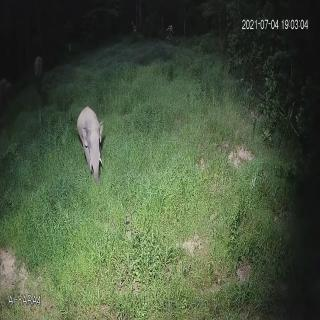Elephant: (76, 105, 108, 182)
